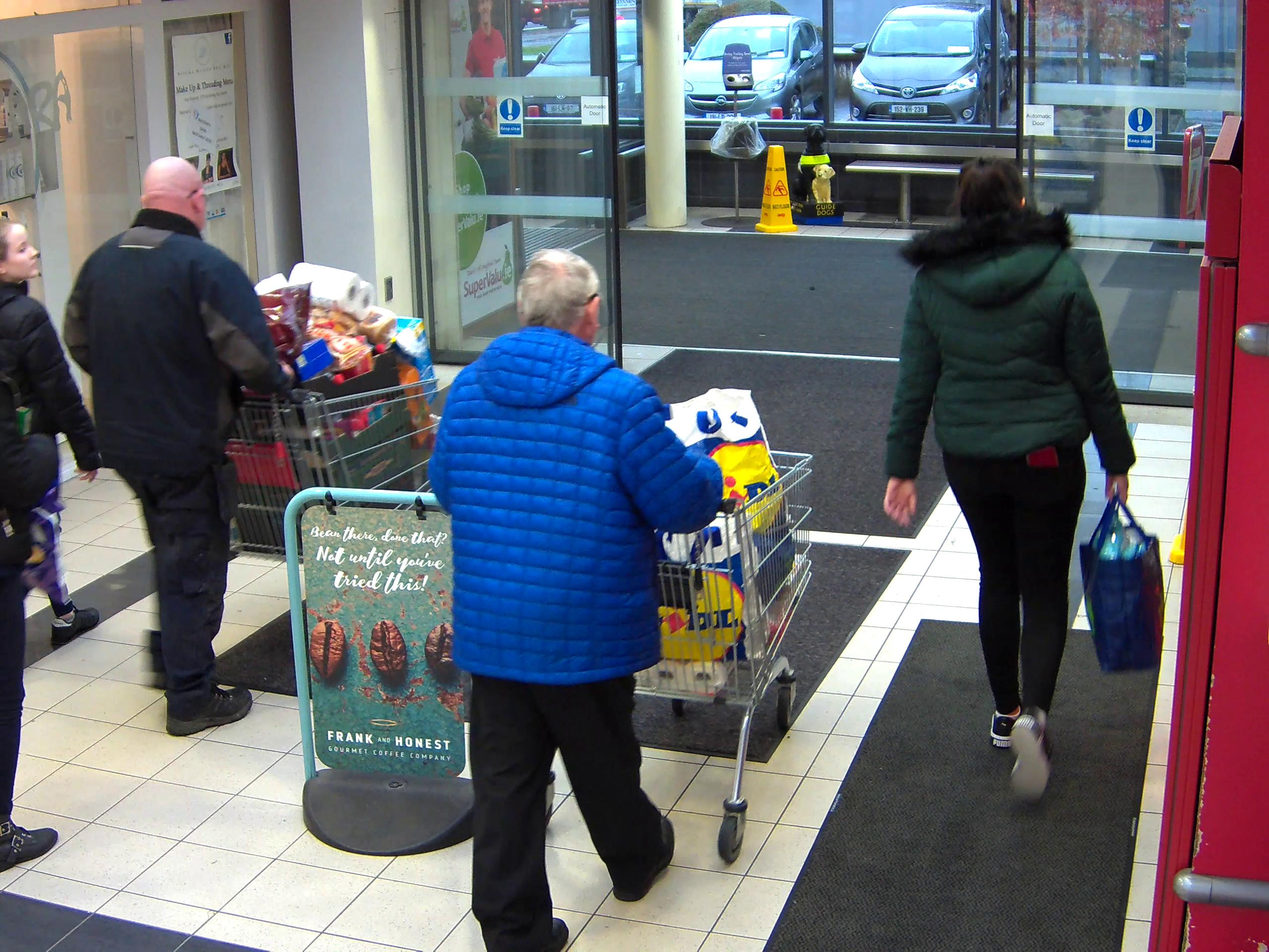filled-shopping-bags: (1079, 492, 1170, 675)
filled-trolly: (611, 429, 816, 858), (214, 256, 440, 560)
person: (430, 245, 723, 952), (883, 152, 1137, 798), (64, 158, 293, 739)
person-with-filled-basket-trolly: (426, 244, 816, 952), (64, 156, 441, 740)
person-with-filled-shopping-bag-s-: (885, 151, 1170, 795)
